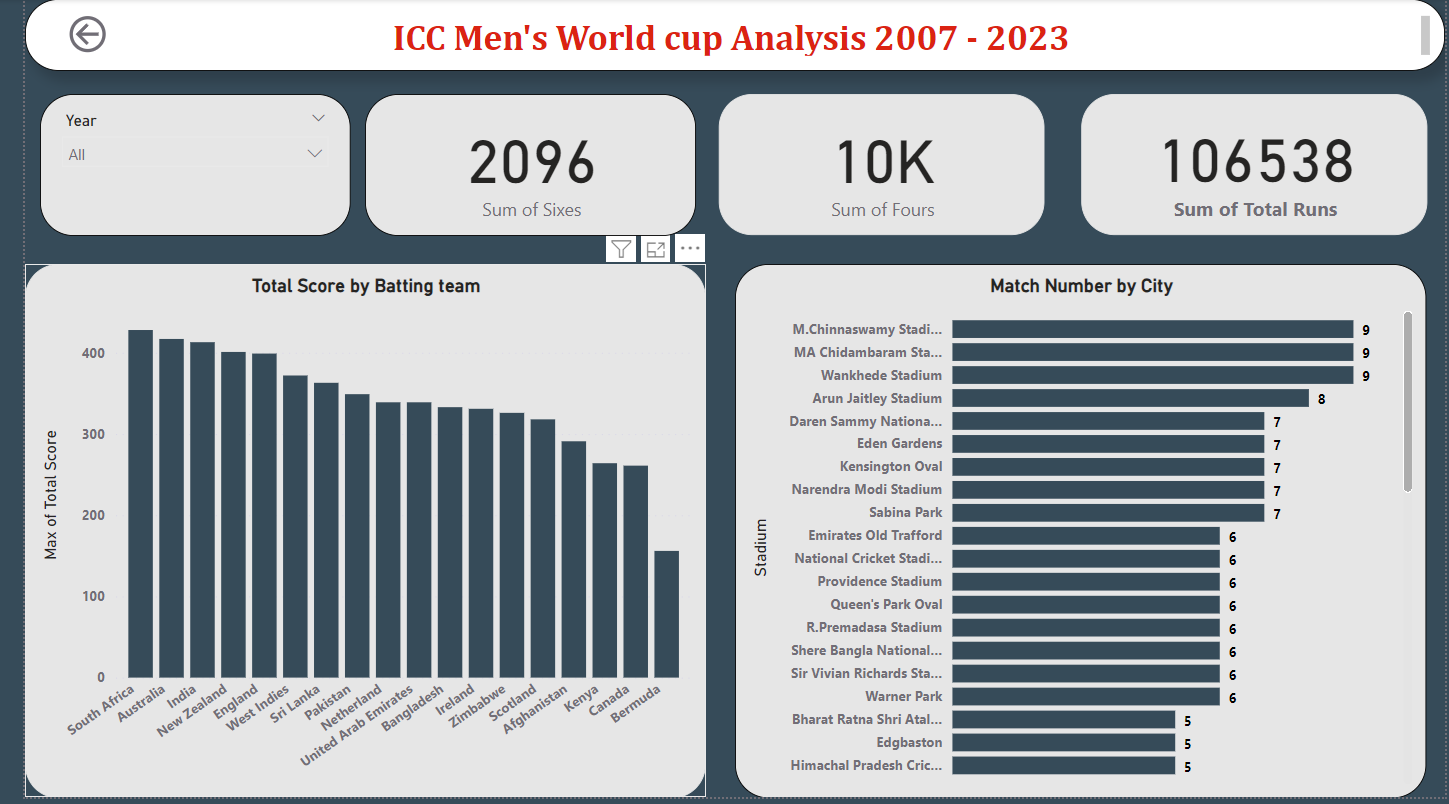

This screenshot's page, from the dashboard's own definition file:
{"tool":"powerbi","page":{"name":"Team And City  Analysis","canvas":[1280,720],"ordinal":3},"visuals":[{"type":"slicer","fields":{"Values":["Complete_Batting_Data_2007_To_2.Year"]},"box":[13.4,85.6,279.9,128.4],"z":0},{"type":"columnChart","title":"Total Score by Batting team","fields":{"Category":["Complete_Batting_Data_2007_To_2.Batting team"],"Y":["Max(Complete_Batting_Data_2007_To_2.Total Score)"]},"box":[0,238.4,613.7,481.6],"z":1000},{"type":"card","fields":{"Values":["Sum(Complete_Batting_Data_2007_To_2.Total Runs)"]},"box":[952.3,85.6,311.7,127.1],"z":2000},{"type":"card","fields":{"Values":["Sum(Complete_Batting_Data_2007_To_2.Fours)"]},"box":[625.9,85.6,293.4,127.1],"z":3000},{"type":"card","fields":{"Values":["Sum(Complete_Batting_Data_2007_To_2.Sixes)"]},"box":[306.8,85.6,298.3,128.4],"z":4000},{"type":"barChart","title":"Match Number by City","fields":{"Y":["Count(Complete_Batting_Data_2007_To_2.Match Number)"],"Category":["Complete_Batting_Data_2007_To_2.Stadium"]},"box":[640.5,238.4,623.4,481.6],"z":5000},{"type":"textbox","box":[0,0,1279.9,64.8],"z":7000},{"type":"actionButton","box":[34.8,9.7,100.1,43.1],"z":7500}]}

Visuals, with their boxes in screenshot pixels (x1, y1, x2, y2), scaled from the page's 1280x720 canvas onto the 1449x804 screenshot:
slicer - Complete_Batting_Data_2007_To_2.Year: <region>15, 96, 332, 239</region>
"Total Score by Batting team" columnChart: <region>0, 266, 695, 803</region>
card - Sum(Complete_Batting_Data_2007_To_2.Total Runs): <region>1078, 96, 1431, 238</region>
card - Sum(Complete_Batting_Data_2007_To_2.Fours): <region>709, 96, 1041, 238</region>
card - Sum(Complete_Batting_Data_2007_To_2.Sixes): <region>347, 96, 685, 239</region>
"Match Number by City" barChart: <region>725, 266, 1431, 803</region>
textbox: <region>0, 0, 1448, 72</region>
actionButton: <region>39, 11, 153, 59</region>
